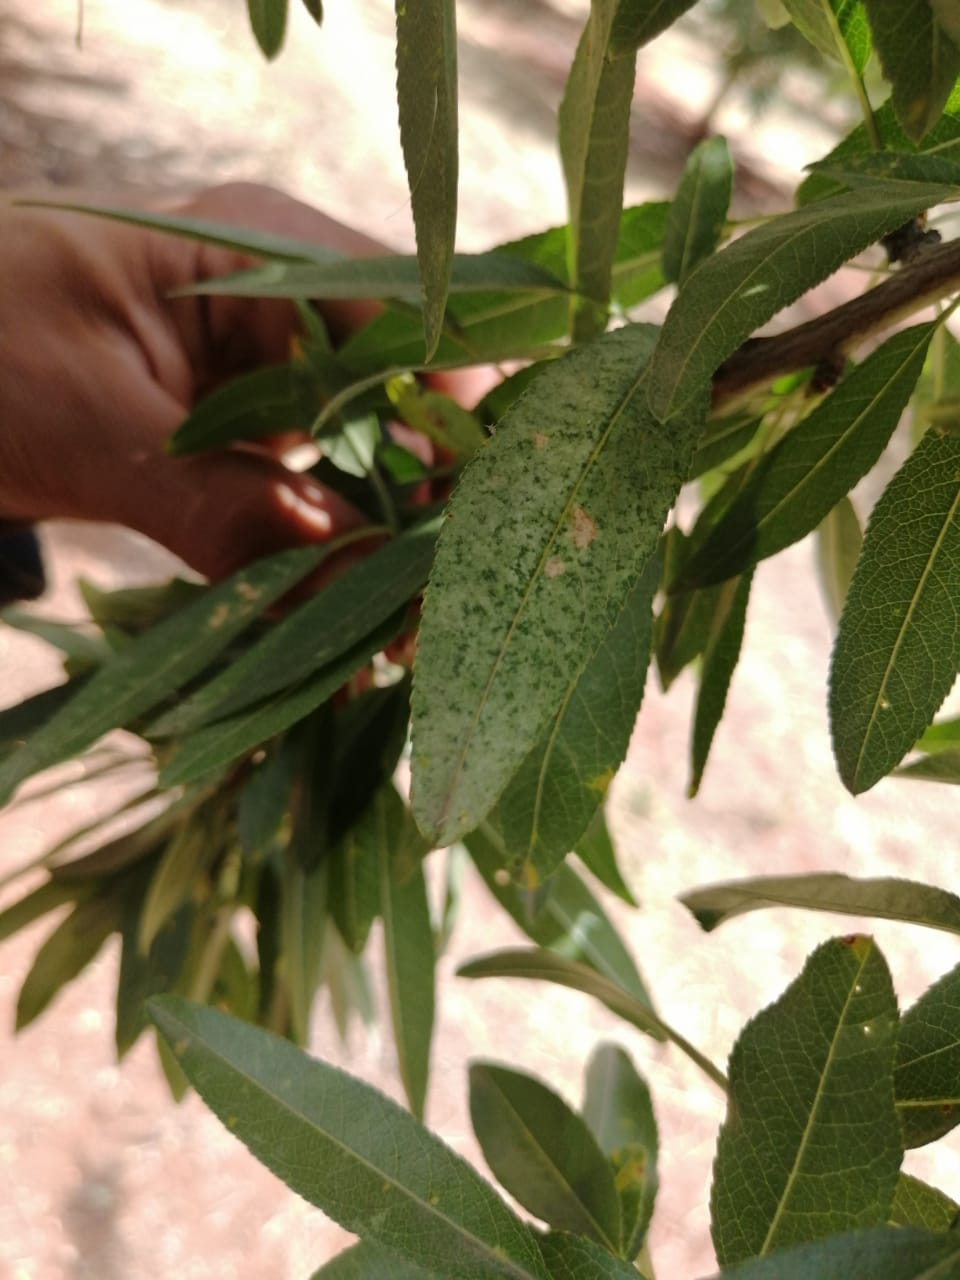faux tigre: (401, 322, 709, 848)
